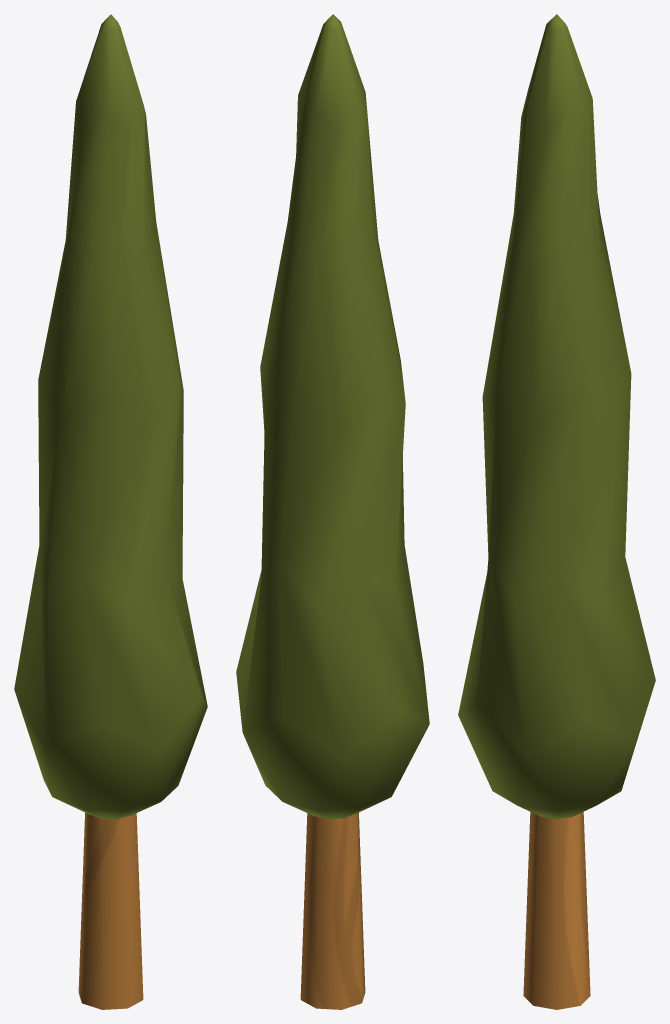
File: Arvore_6.fbx
3 views of the same model, side by side, from view 1: azimuth 30°, elevation 25°; view 2: azimuth 150°, elevation 25°; view 3: azimuth 270°, elevation 25° (orthographic).
Parts seen in each view (by area): view 1: Arvore_6; view 2: Arvore_6; view 3: Arvore_6.
Part boxes in pixels (x1,y1,x2,y2): Arvore_6: (14,14,207,1009); Arvore_6: (236,14,429,1009); Arvore_6: (458,14,655,1009).
Bounding box in the file's own units: 48.65 × 280 × 51.16.
